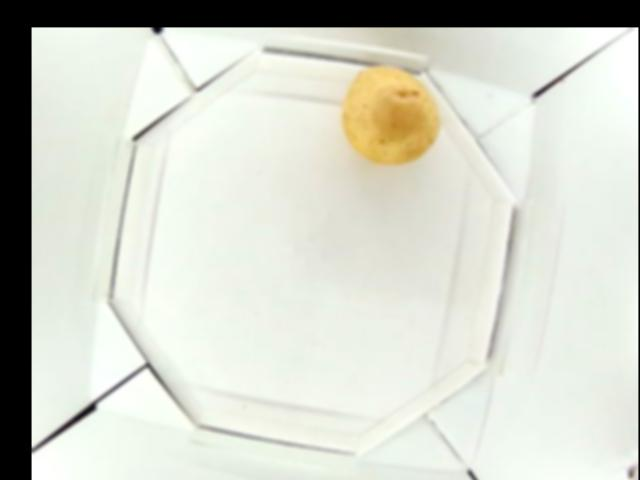Potato: (344, 67, 440, 167)
